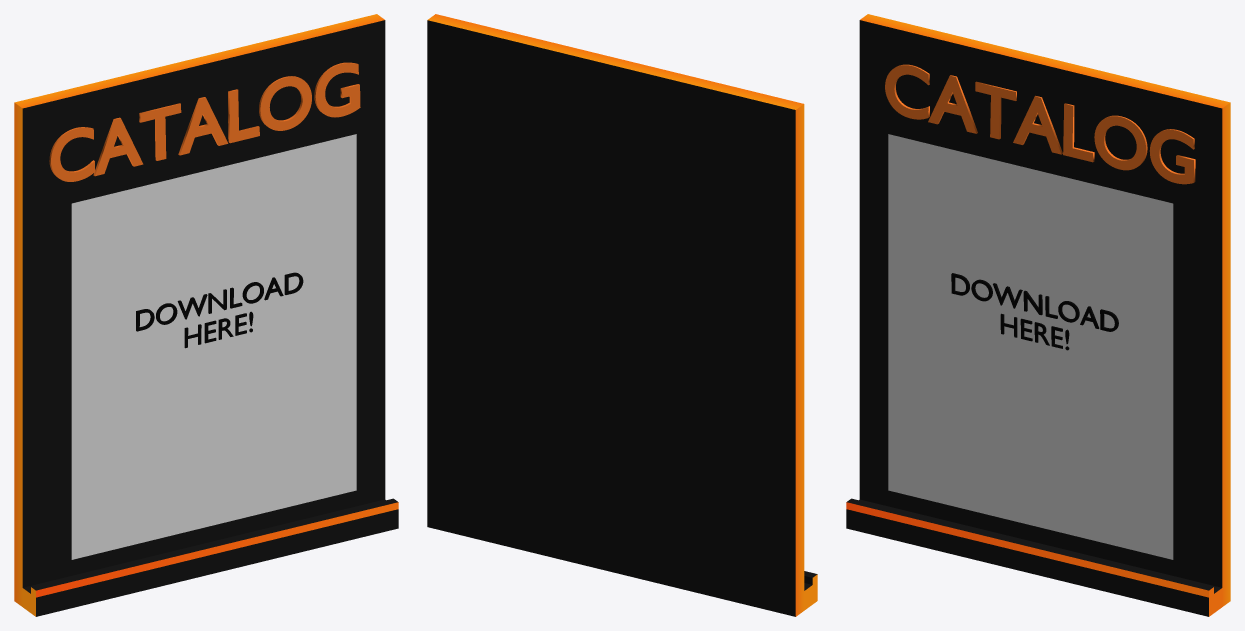
Rendered from catalog.glb.
3 views of the same model, side by side, from view 1: azimuth 30°, elevation 25°; view 2: azimuth 150°, elevation 25°; view 3: azimuth 330°, elevation 25° (orthographic).
Parts seen in each view (by area): view 1: Plane, Cube, Text, Text.001; view 2: Cube; view 3: Plane, Cube, Text, Text.001.
Part boxes in pixels (left/top/right/bottom): Plane: left=71, top=134, right=356, bottom=559; Cube: left=14, top=14, right=398, bottom=616; Text: left=49, top=62, right=360, bottom=181; Text.001: left=136, top=272, right=303, bottom=348; Cube: left=427, top=14, right=817, bottom=616; Plane: left=888, top=134, right=1173, bottom=559; Cube: left=846, top=14, right=1230, bottom=616; Text: left=885, top=64, right=1195, bottom=184; Text.001: left=951, top=273, right=1118, bottom=350.
Bounding box in the file's own units: 3.49 × 4.59 × 0.3597.
Materials: 4 (1 with a texture image).
